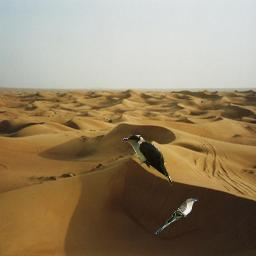Cuckoo: (121, 135, 172, 186), (154, 198, 198, 236)
